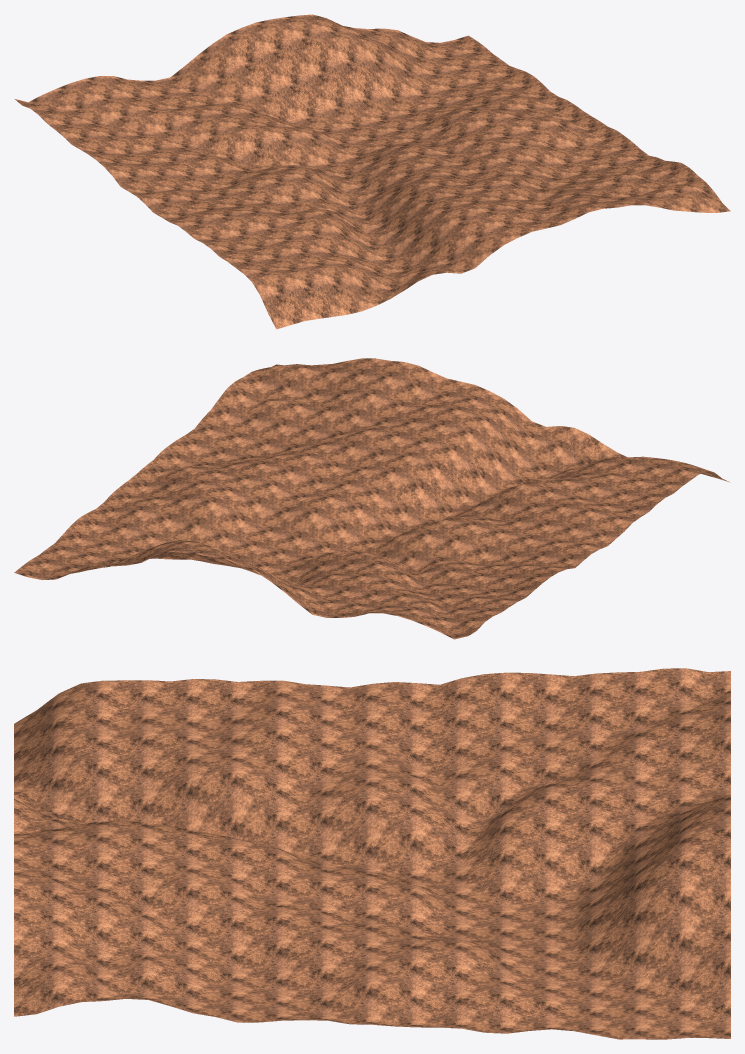
The model's file is terrain_06_00.dae.
The picture shows the model from 3 angles, top to bottom: view 1: azimuth 30°, elevation 25°; view 2: azimuth 150°, elevation 25°; view 3: azimuth 270°, elevation 25°; orthographic projection. The views are drawn at different scales.
Parts seen in each view (by area): view 1: terrain_06_00-node; view 2: terrain_06_00-node; view 3: terrain_06_00-node.
Boxes of the visible parts, left/top/right/bottom form: terrain_06_00-node: left=15, top=14, right=730, bottom=329; terrain_06_00-node: left=14, top=358, right=729, bottom=639; terrain_06_00-node: left=14, top=668, right=730, bottom=1039.
Size of the model in its own units: 128 by 128 by 17.74.
Materials: 1 (1 with a texture image).
